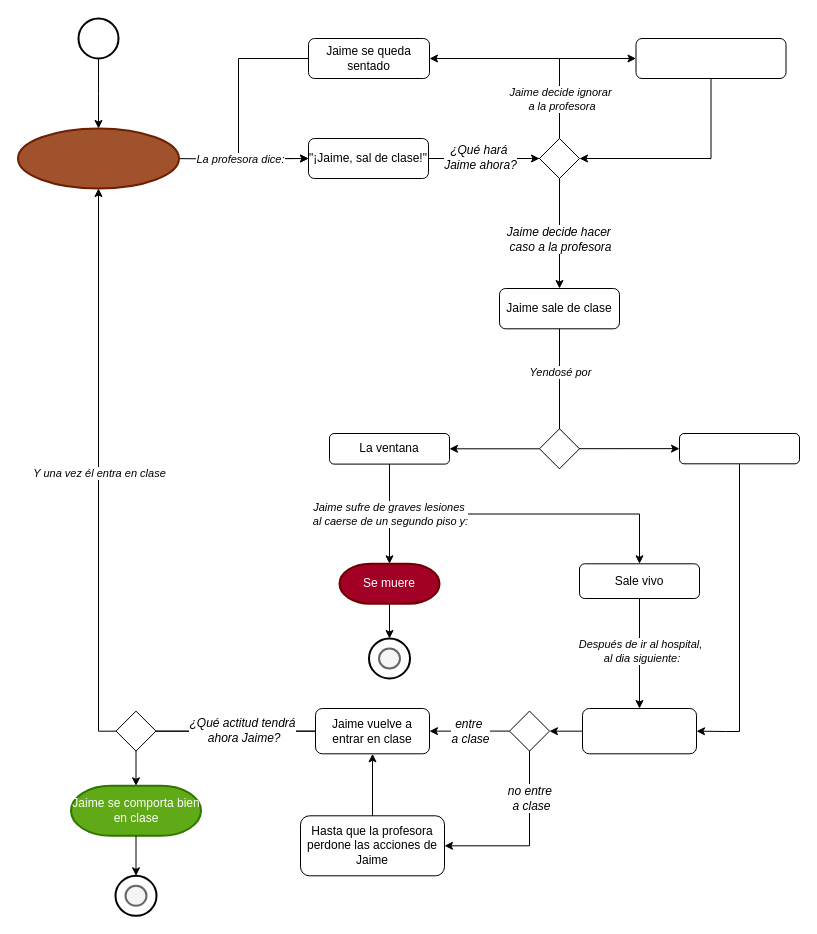
Some shapes in this 817 by 934 pixel diagram are drawn without their labels. The box of each missing label's shape, as (x1, y1, x2, y2) in pixels:
Jaime se comporta mal en clase: (16, 127, 180, 189)
La profesora decidirá que Jaime: (582, 708, 696, 754)
La profesora manda a Jaime a por un parte: (635, 38, 786, 78)
Por la puerta: (678, 432, 800, 464)
